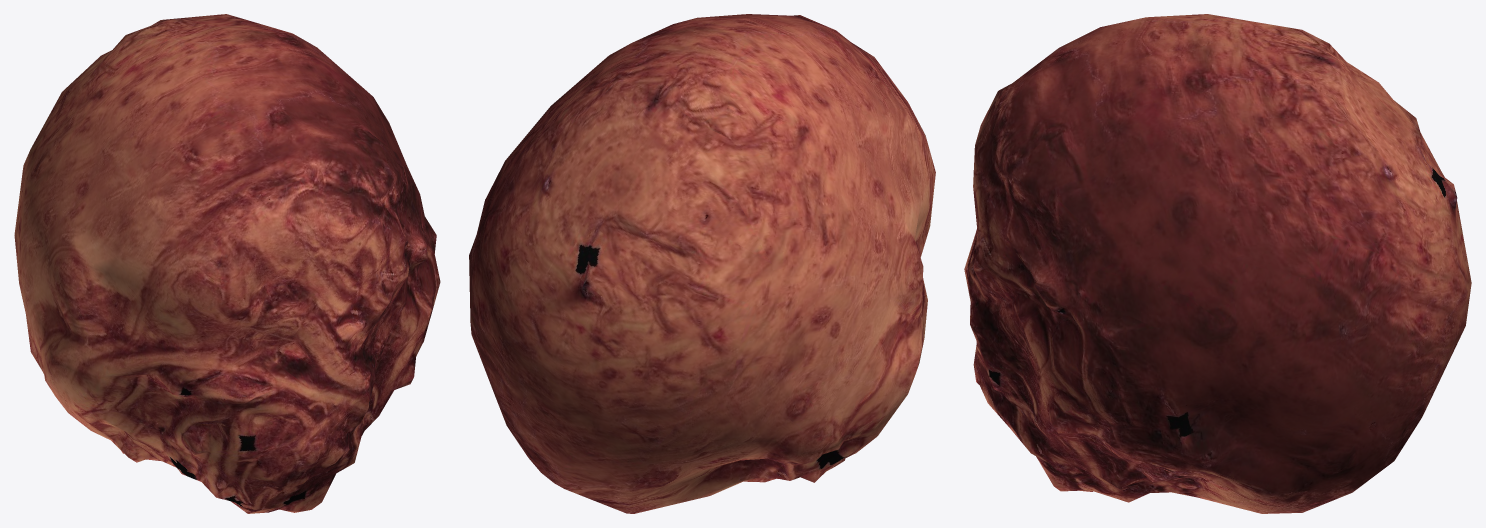
3 views of the same model, side by side, from view 1: azimuth 30°, elevation 25°; view 2: azimuth 150°, elevation 25°; view 3: azimuth 270°, elevation 25° (orthographic). The views are drawn at different scales.
Visible parts, largest first — view 1: 29_celery; view 2: 29_celery; view 3: 29_celery.
Boxes of the visible parts, bbox=[...] form: 29_celery: bbox=[14, 14, 440, 513]; 29_celery: bbox=[469, 14, 935, 513]; 29_celery: bbox=[964, 14, 1471, 513].
Bounding box in the file's own units: 0.8407 × 0.9502 × 0.9567.
Materials: 1 (1 with a texture image).
